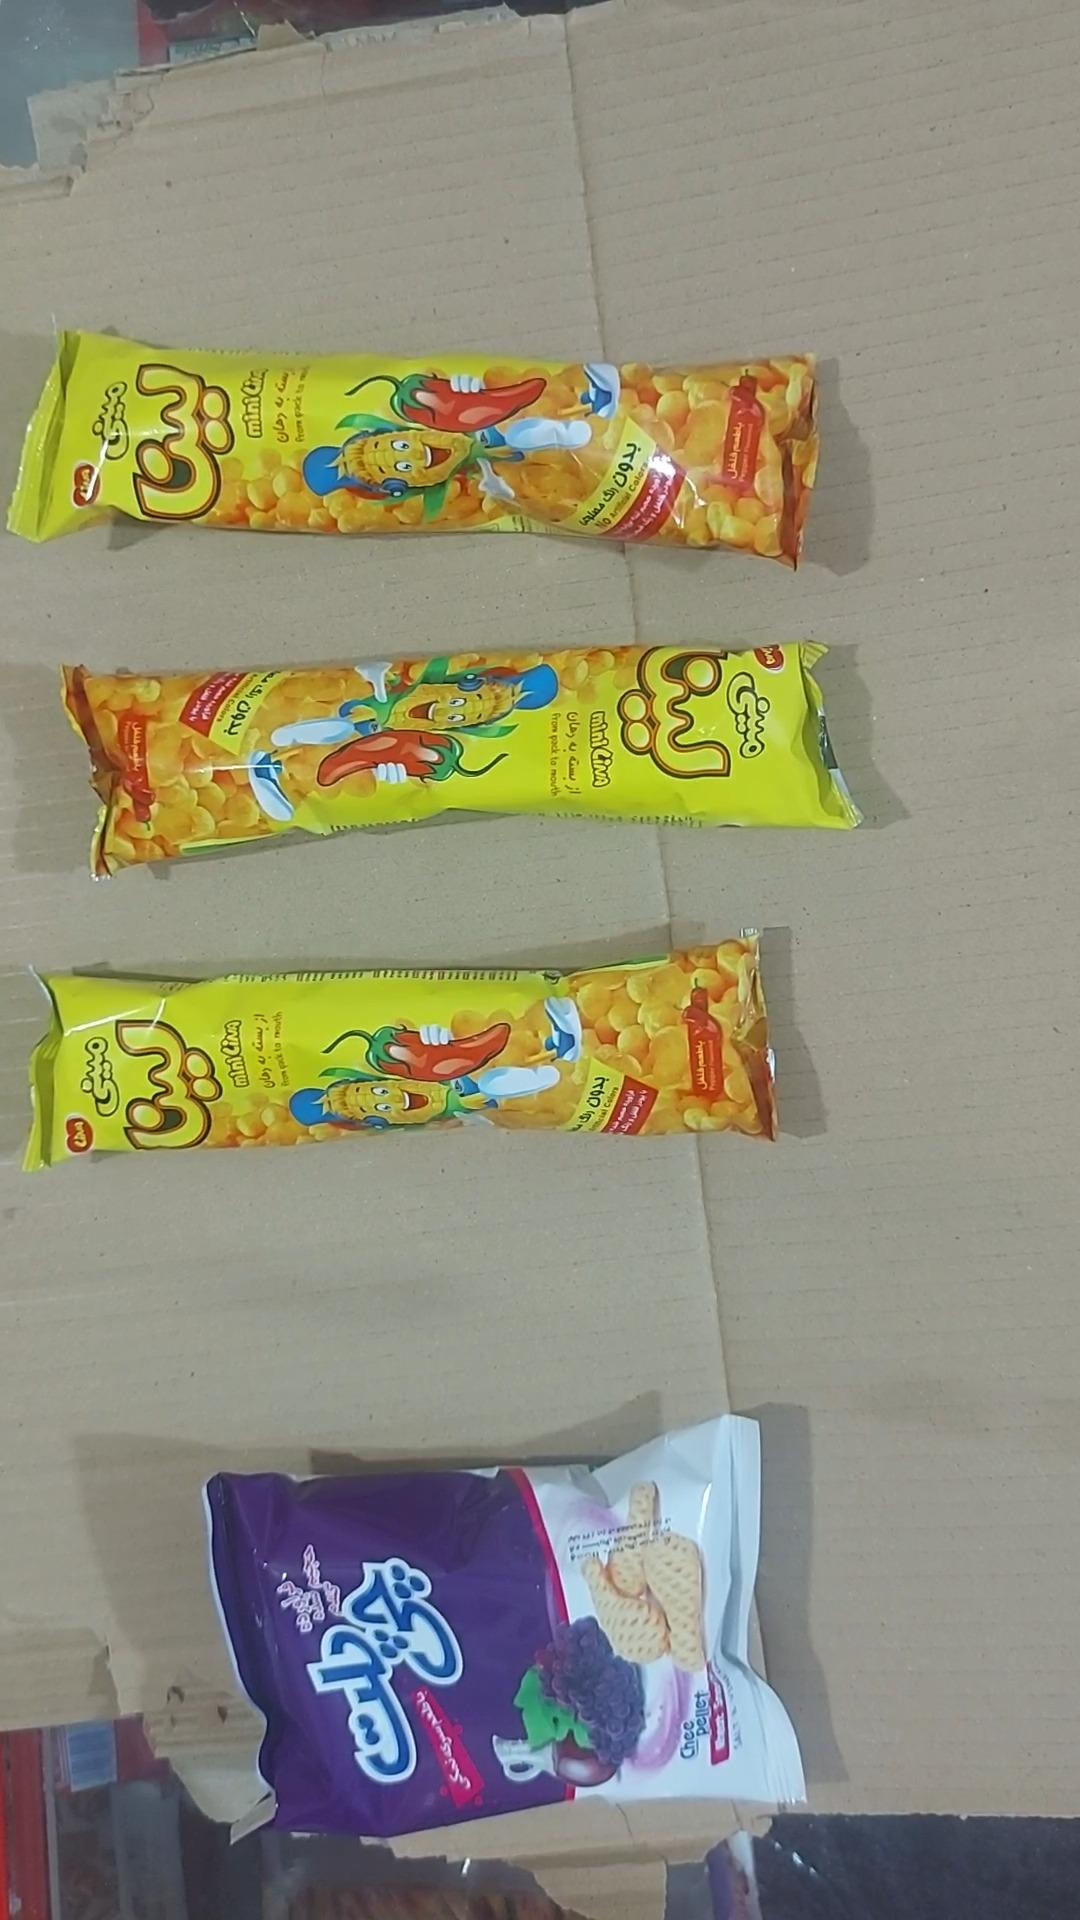Chee pellet vinegar: (203, 1414, 810, 1845)
Mini Lina: (5, 330, 822, 570), (61, 642, 862, 878), (18, 928, 775, 1174)
